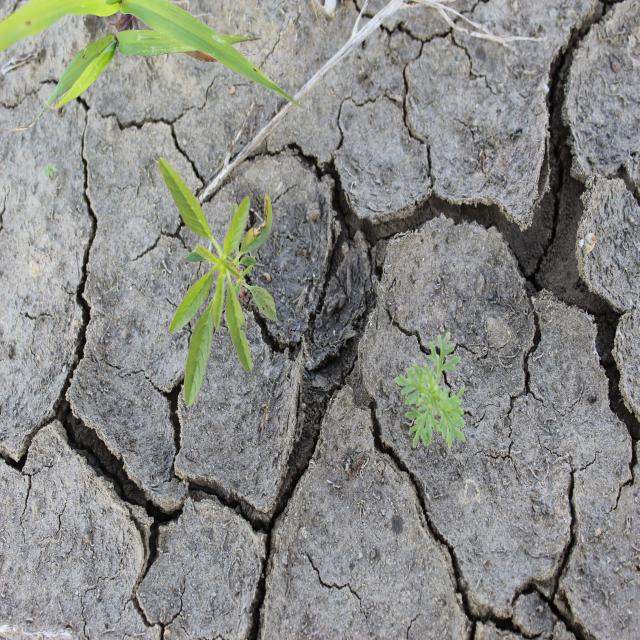Ragweed: (394, 331, 468, 452)
Waterhemp: (156, 154, 279, 410)
